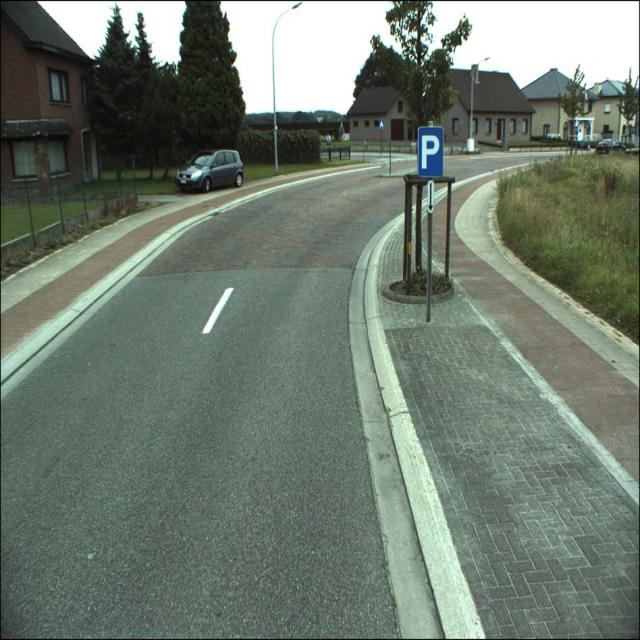park: (417, 126, 443, 177)
